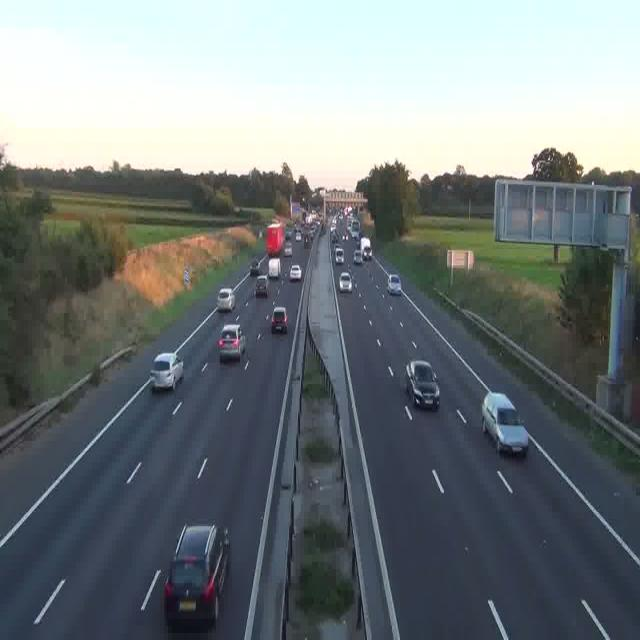car: (164, 524, 230, 630), (481, 392, 529, 455), (405, 360, 440, 409), (150, 353, 184, 390), (218, 324, 246, 361), (271, 306, 289, 332), (218, 288, 235, 311), (387, 273, 402, 294), (256, 276, 270, 297), (267, 259, 281, 278), (250, 258, 263, 276), (290, 262, 302, 281), (339, 273, 351, 292), (334, 248, 345, 265), (283, 241, 294, 258), (302, 234, 308, 245), (330, 233, 336, 243)
truck: (266, 220, 284, 257), (344, 210, 354, 232)
